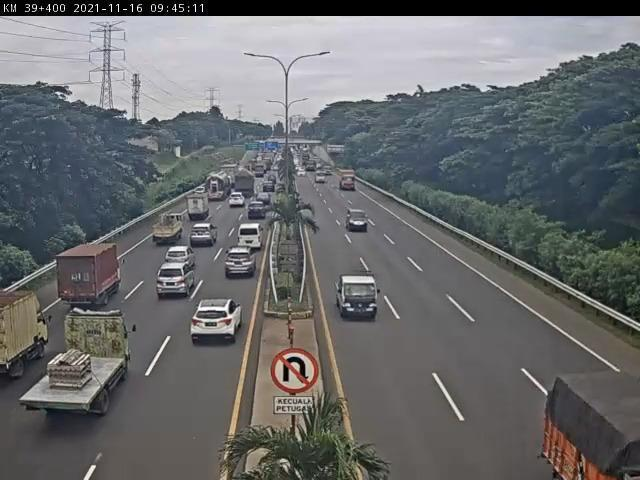car: (192, 299, 243, 343), (336, 274, 379, 320), (158, 265, 197, 298), (224, 249, 256, 281), (190, 223, 217, 248), (345, 209, 371, 234), (237, 225, 263, 250), (167, 248, 192, 267), (249, 202, 270, 221), (228, 194, 247, 209)
truck: (20, 313, 134, 411), (1, 288, 53, 378), (58, 243, 118, 308), (151, 214, 181, 249), (188, 197, 210, 222)
